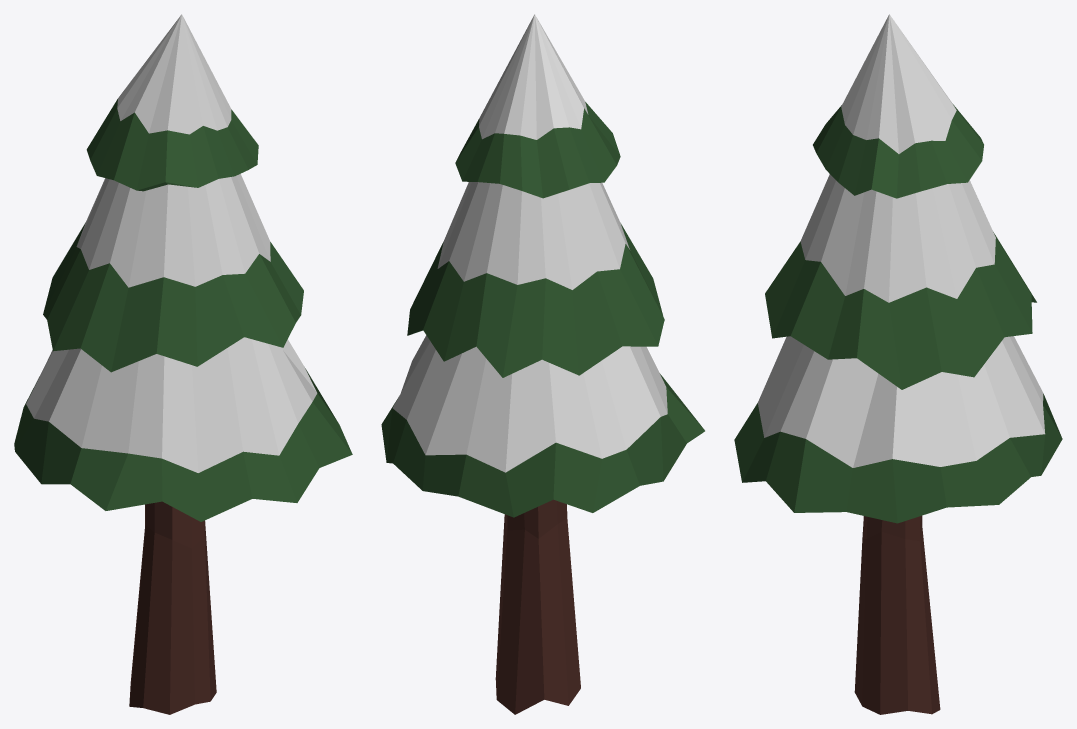
File: winterTree.fbx
The picture shows the model from 3 angles, left to right: view 1: azimuth 30°, elevation 25°; view 2: azimuth 150°, elevation 25°; view 3: azimuth 270°, elevation 25°; orthographic projection. The views are drawn at different scales.
Visible parts, largest first — view 1: WinterTree; view 2: WinterTree; view 3: WinterTree.
Part boxes in pixels (bbox=[...]): WinterTree: bbox=[14, 14, 352, 714]; WinterTree: bbox=[381, 14, 704, 714]; WinterTree: bbox=[734, 14, 1062, 714].
Bounding box in the file's own units: 596 × 1445 × 615.
